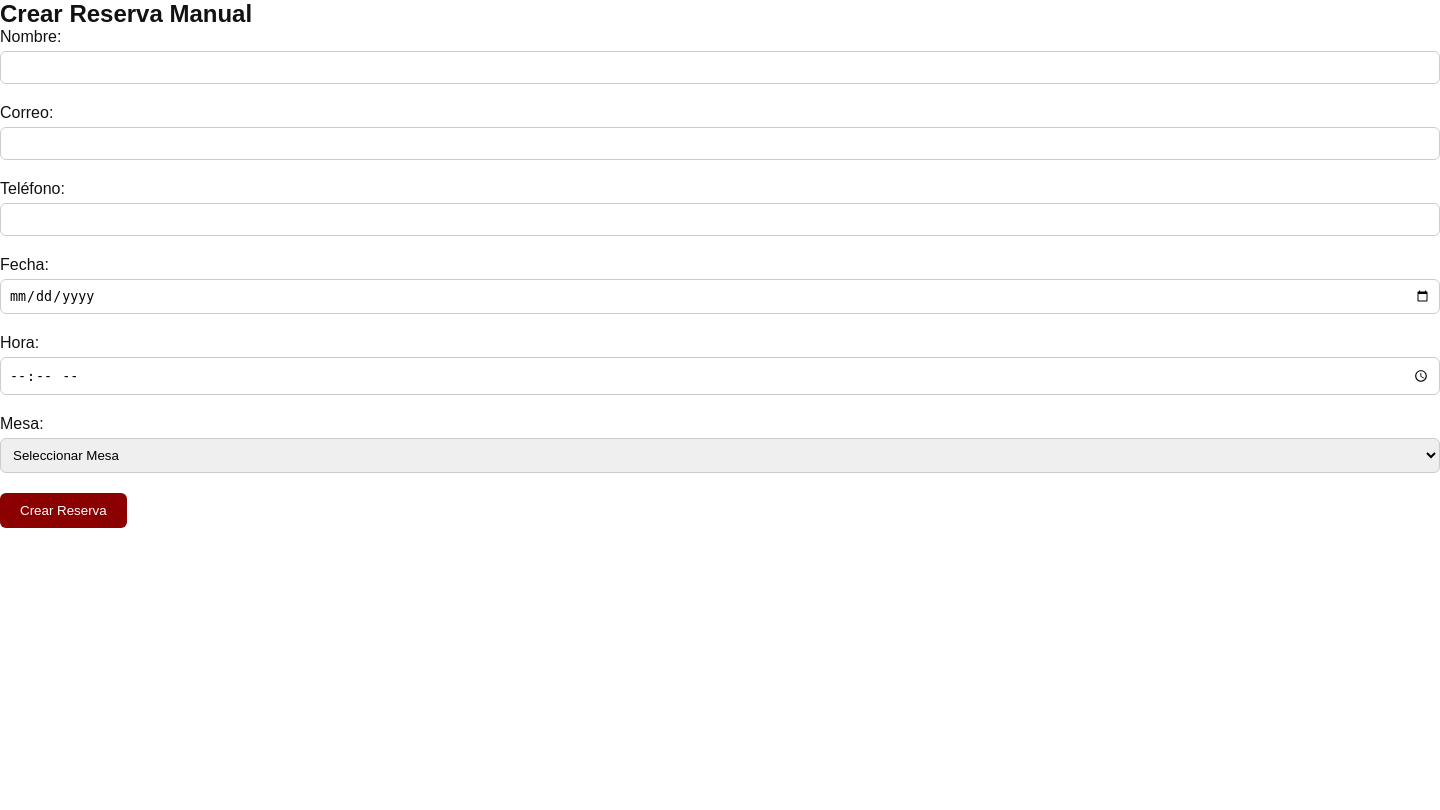
Test case: crea una reserva y muestra el modal de éxito
Step 1. Type "Juan" into the field labelled "Nombre:" → coordinates (720, 68), box x1=0 y1=51 x2=1439 y2=84
Step 2. Type "juan@mail.com" into the field labelled "Correo:" → coordinates (720, 144), box x1=0 y1=127 x2=1439 y2=160
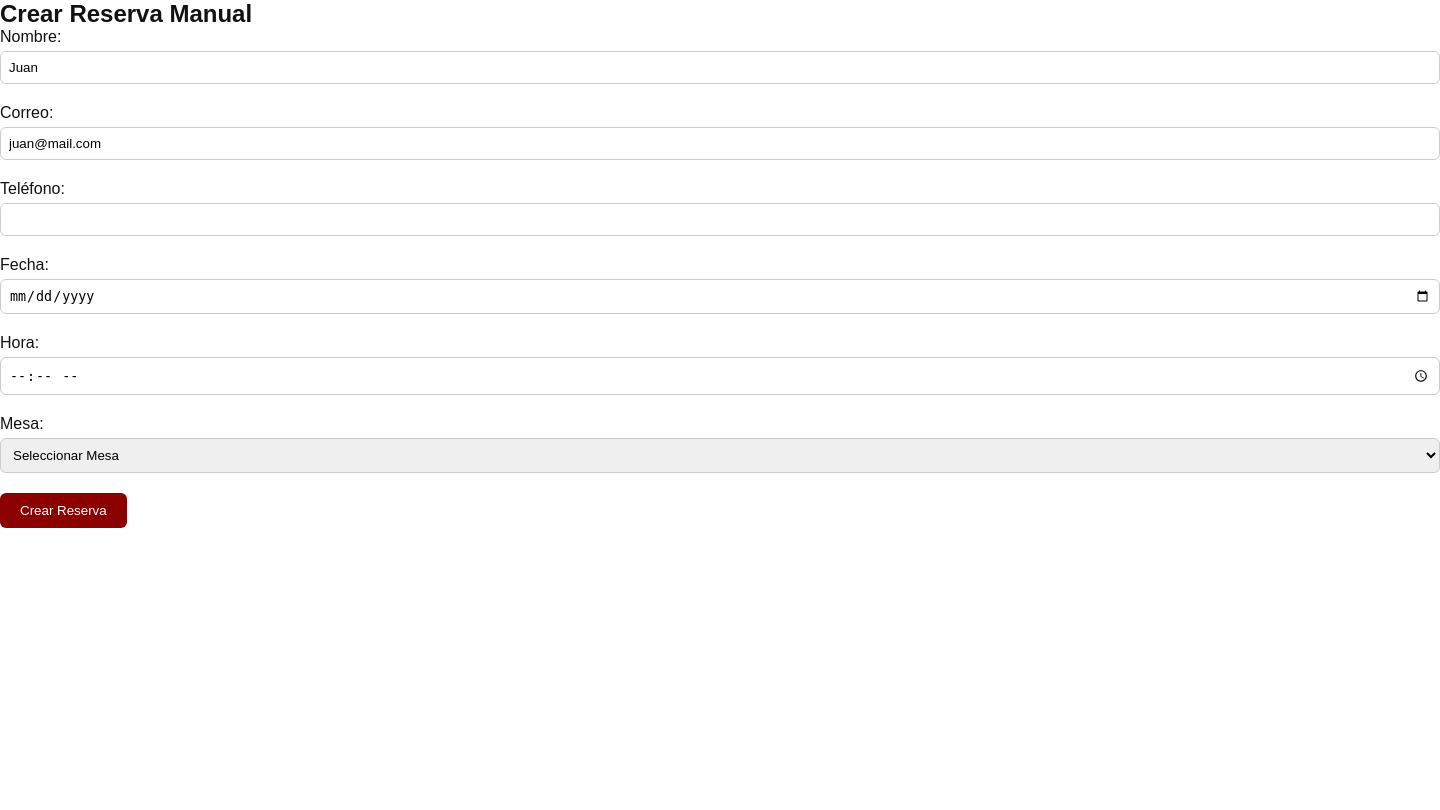
Step 3. Type "999999999" into the field labelled "Teléfono:" → coordinates (720, 220), box x1=0 y1=203 x2=1439 y2=236
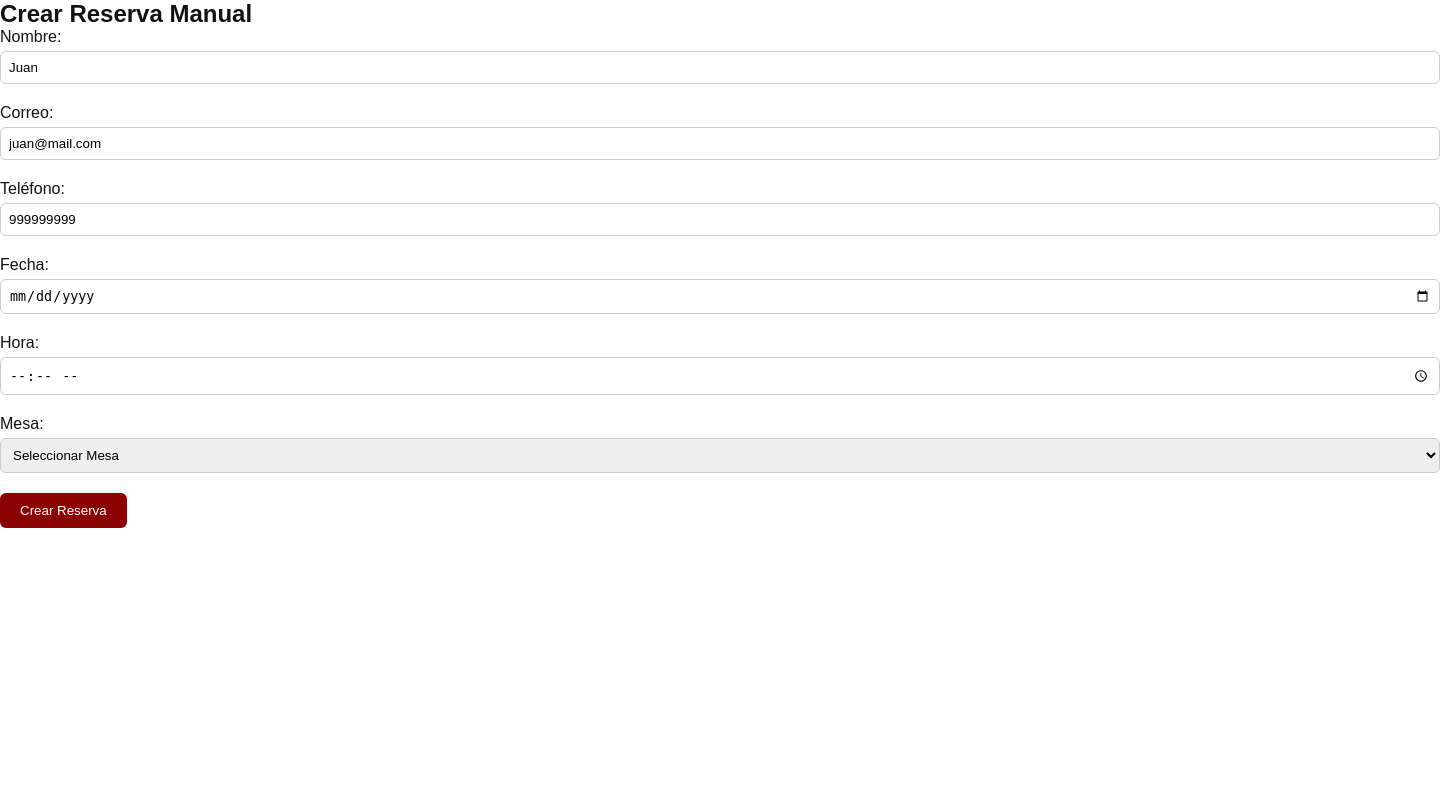
Step 4. Type "2025-08-20" into the date field labelled "Fecha:" → coordinates (720, 297), box x1=0 y1=279 x2=1439 y2=314
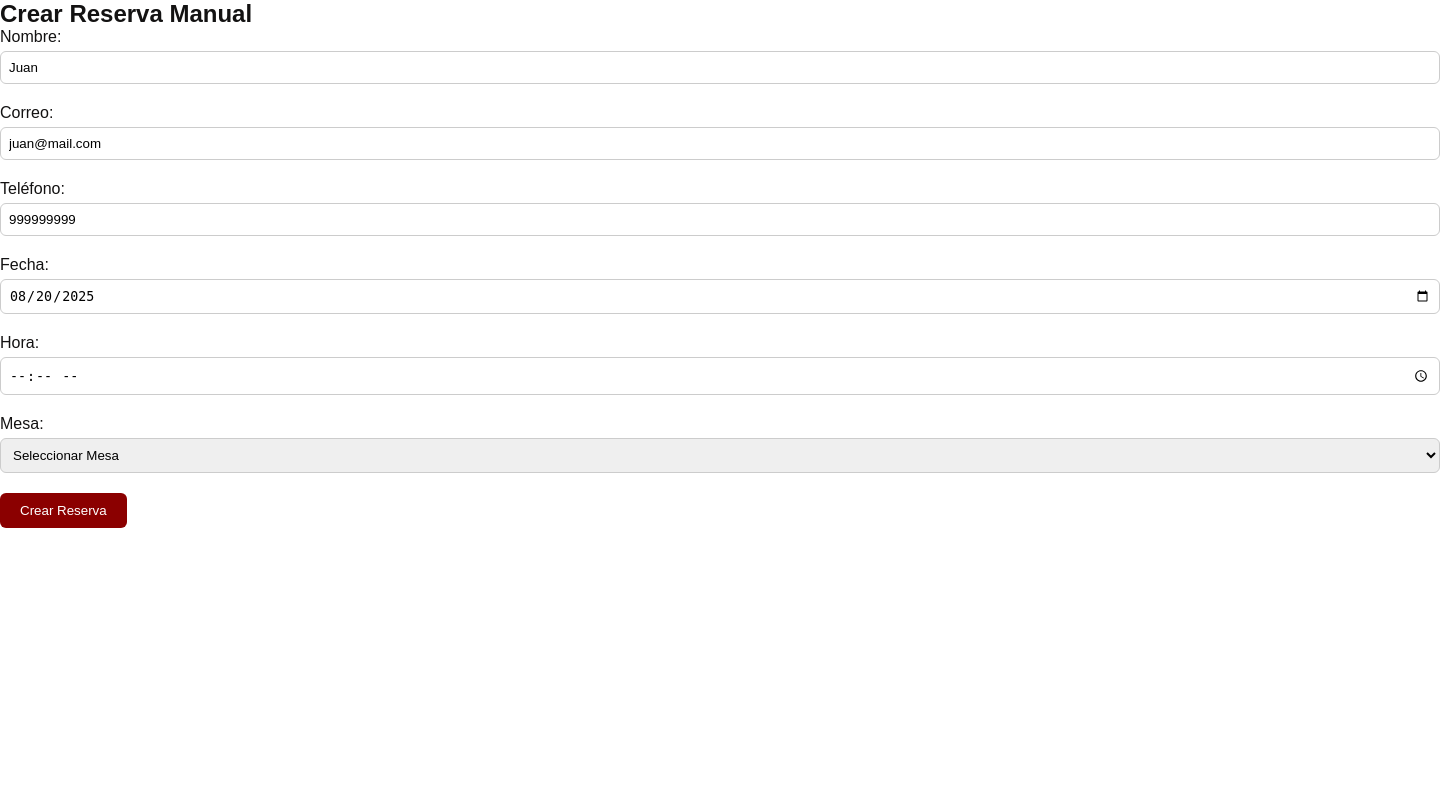
Step 5. Type "19:00" into the time field labelled "Hora:" → coordinates (720, 376), box x1=0 y1=357 x2=1439 y2=395
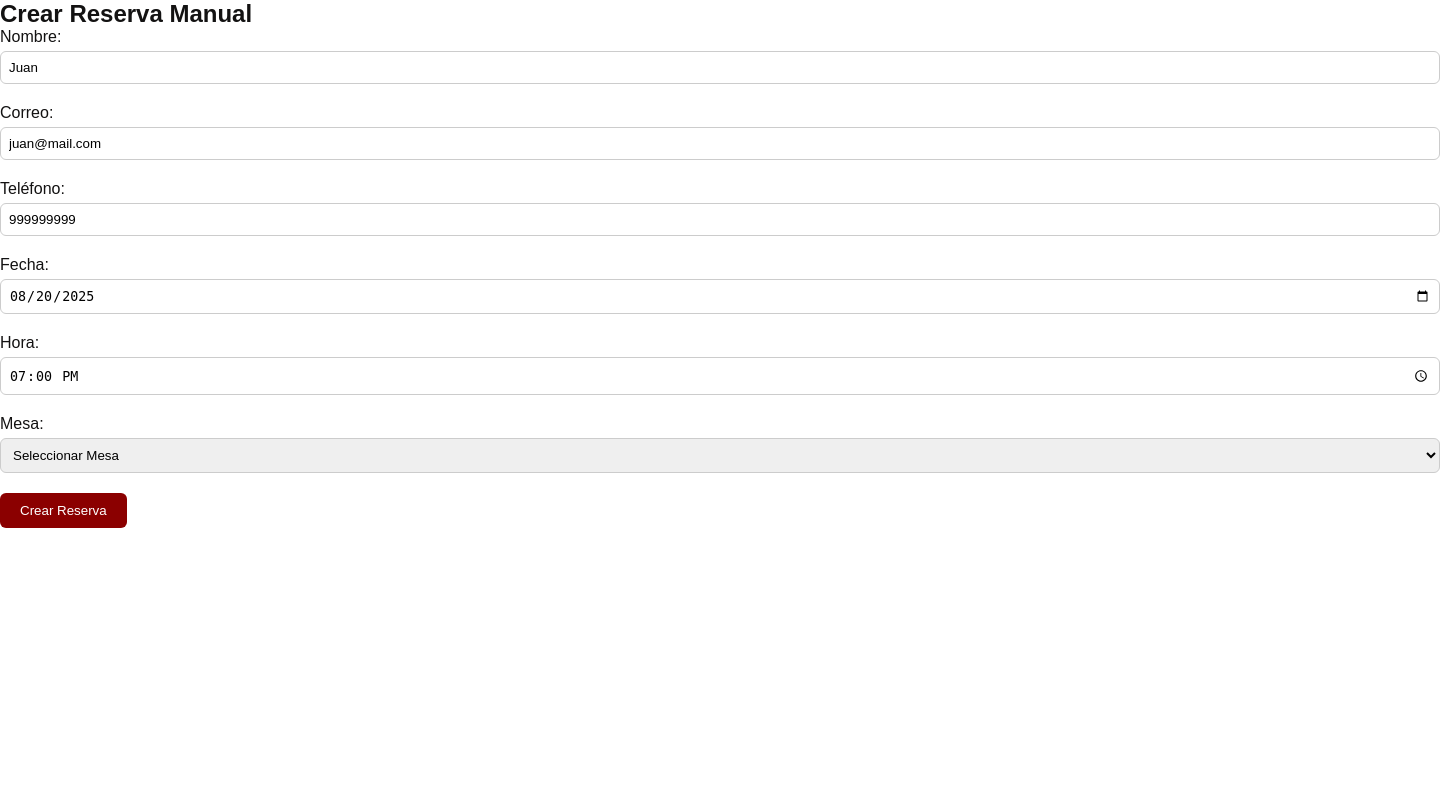
Step 6. Select "Mesa 1" in the dropdown labelled "Mesa:" → coordinates (720, 456), box x1=0 y1=438 x2=1439 y2=473
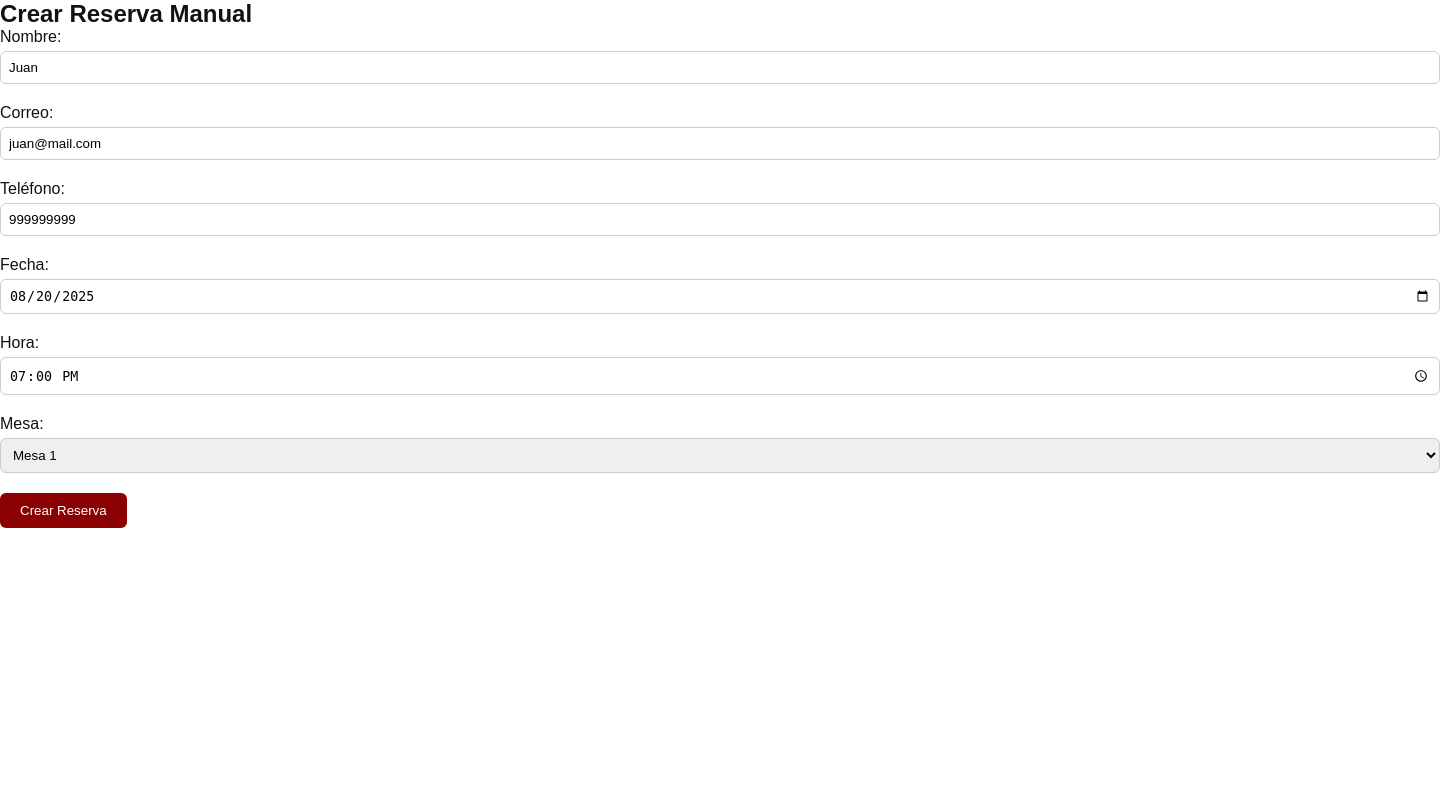
Step 7. Click the button "Crear Reserva" → coordinates (63, 511), box x1=0 y1=493 x2=127 y2=528
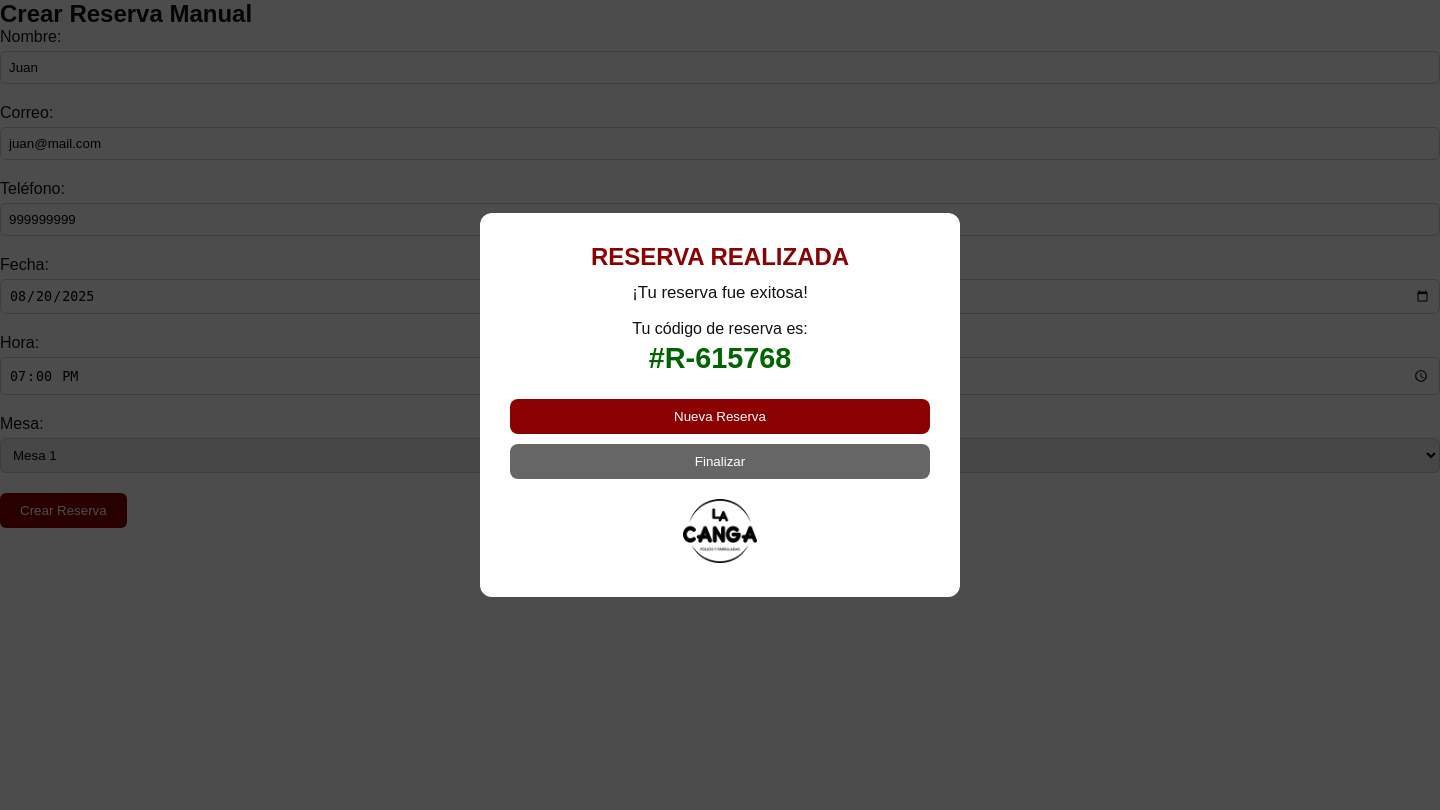
expect the heading "RESERVA REALIZADA" is shown: met, box x1=591 y1=243 x2=849 y2=270
